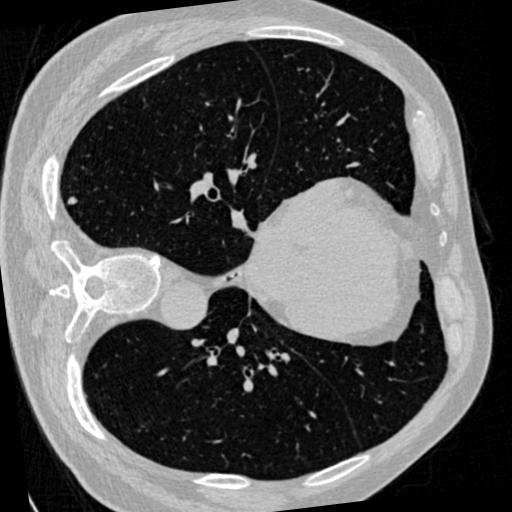nodule: (67, 195, 81, 209)
